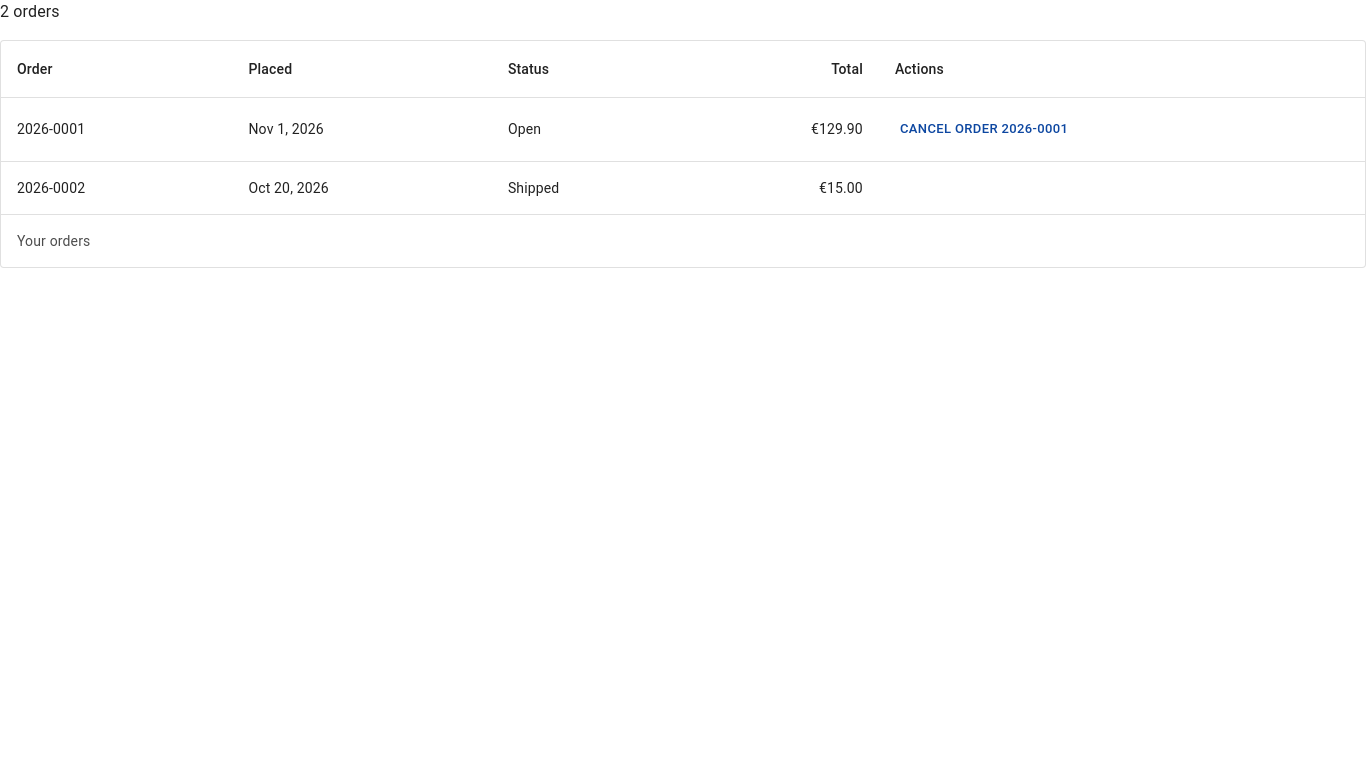
OrdersPanel › rejects a too short reason without calling the use case
Click the button "Cancel order 2026-0001".
click(984, 129)  # box [895,114,1073,145]
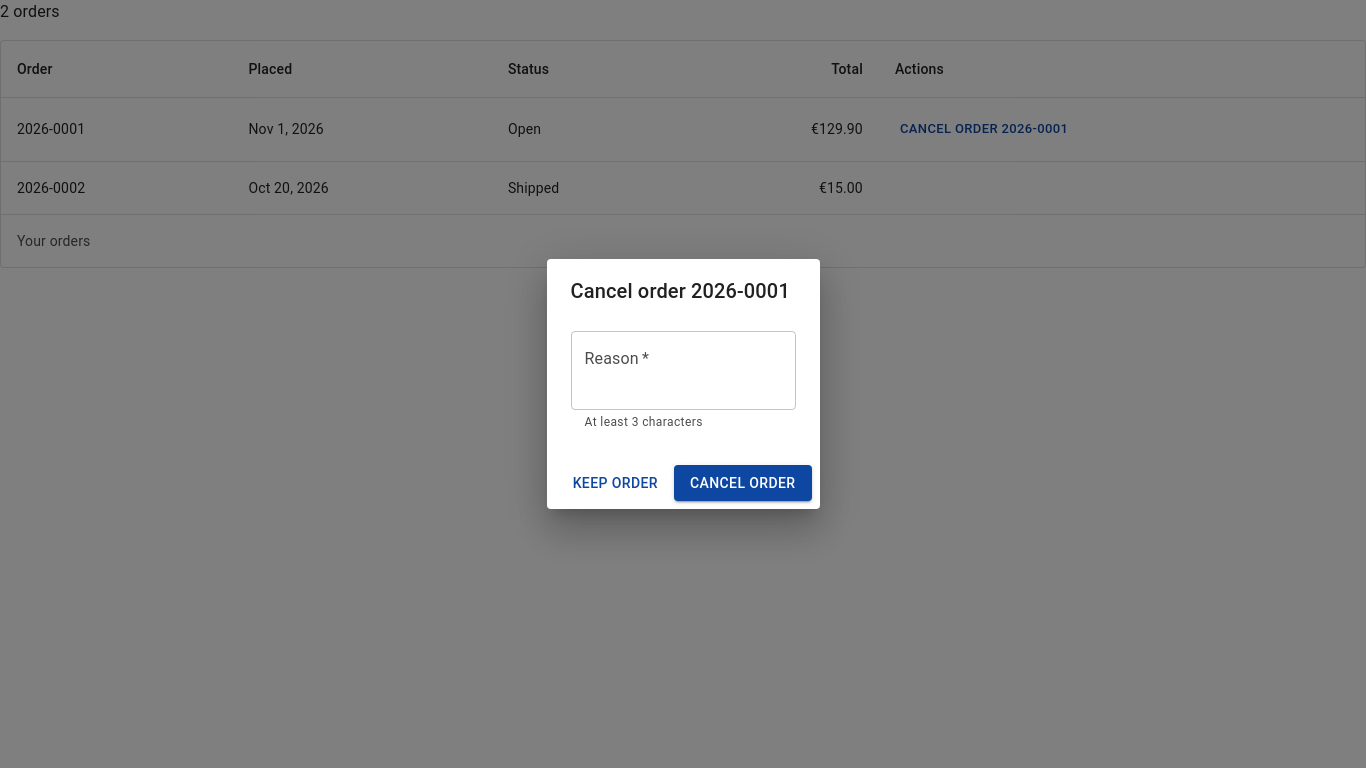
Type "no" into the text box labelled "Reason".
click(683, 370); type("no")  # box [584,347,782,393]
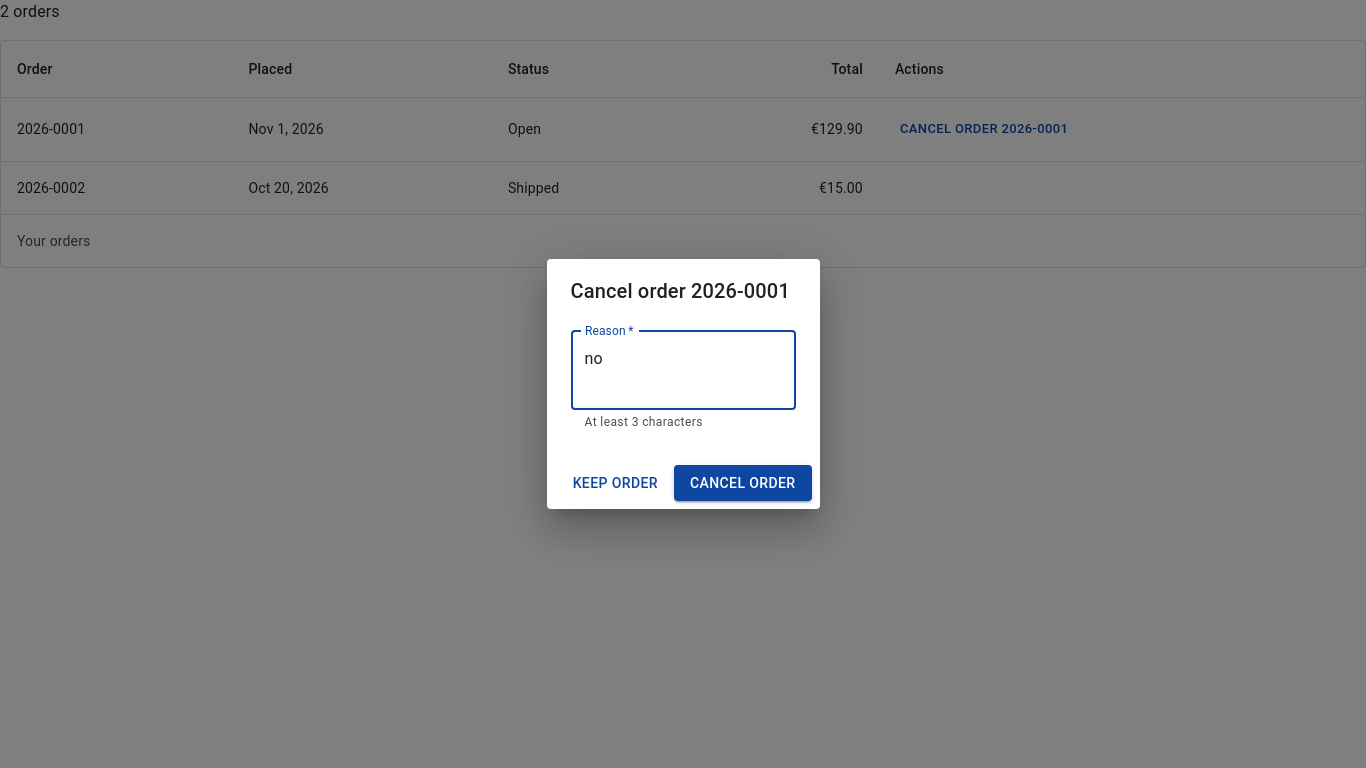
Click the button "Cancel order".
click(743, 483)  # box [674,465,812,501]
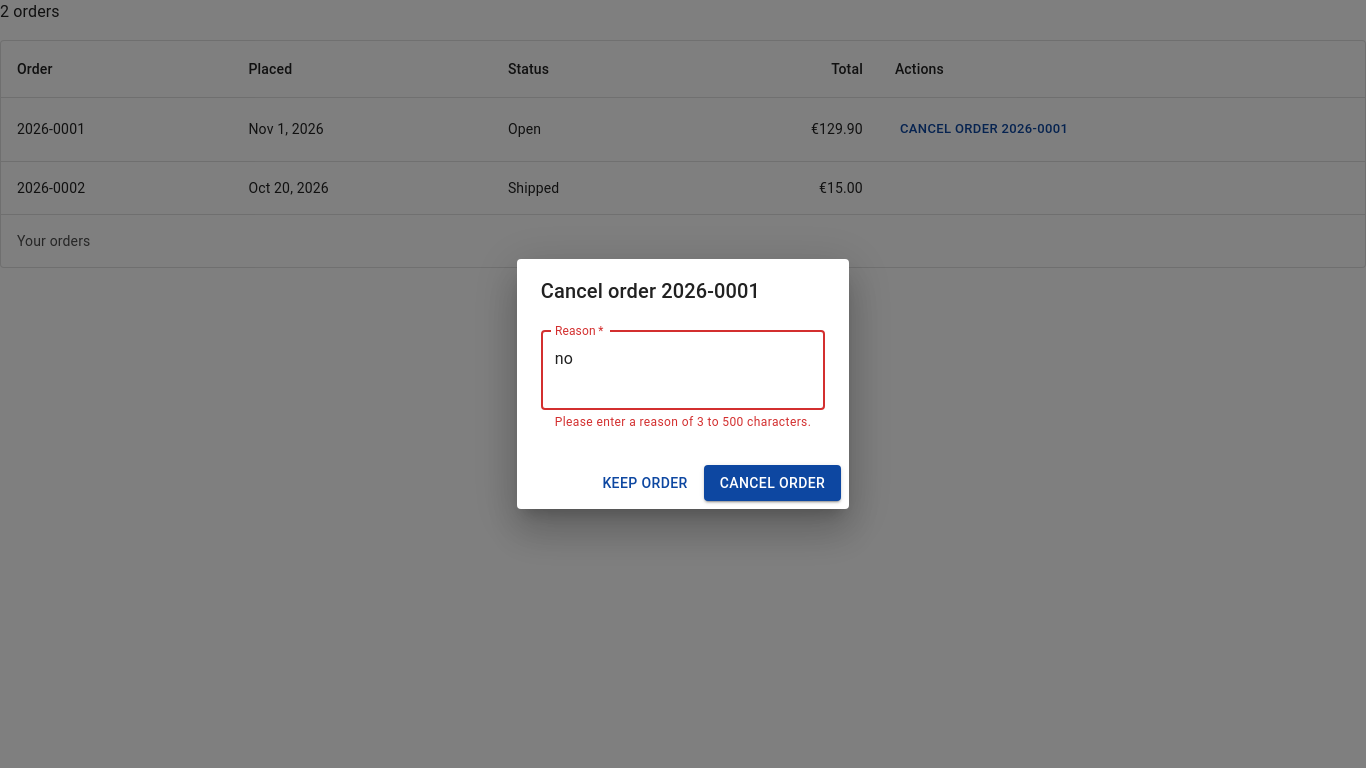
Expected: the text "Please enter a reason of 3 to 500 characters." is shown, [555,413,811,433]
